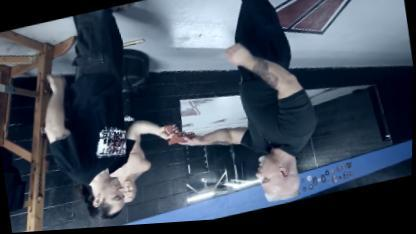pistol: (163, 121, 196, 148)
